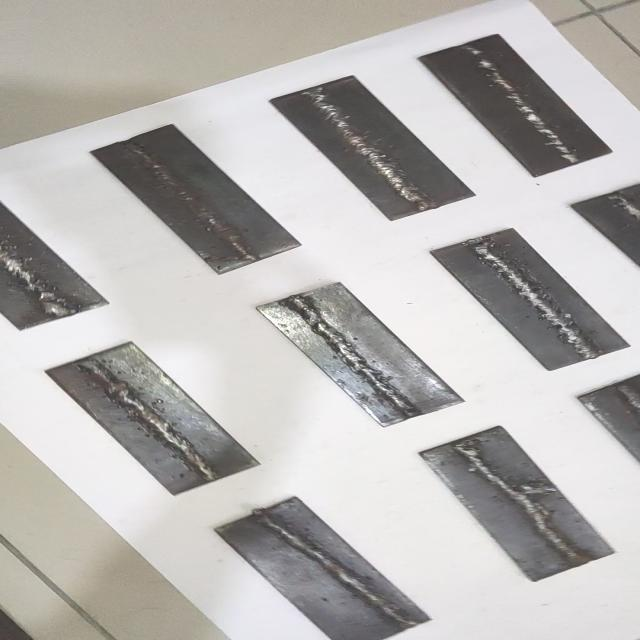Defect: (500, 479, 563, 502)
Welding Line: (254, 508, 417, 628), (459, 440, 591, 565), (289, 292, 421, 416), (306, 88, 438, 211), (83, 362, 218, 481), (127, 140, 260, 260), (472, 236, 600, 359), (462, 44, 584, 164), (0, 242, 75, 320)
Workpiece: (43, 336, 268, 498), (86, 119, 306, 278), (414, 420, 620, 586), (250, 280, 470, 432), (212, 492, 435, 640), (265, 72, 481, 224), (426, 224, 636, 374), (414, 30, 616, 178), (0, 196, 115, 334)
